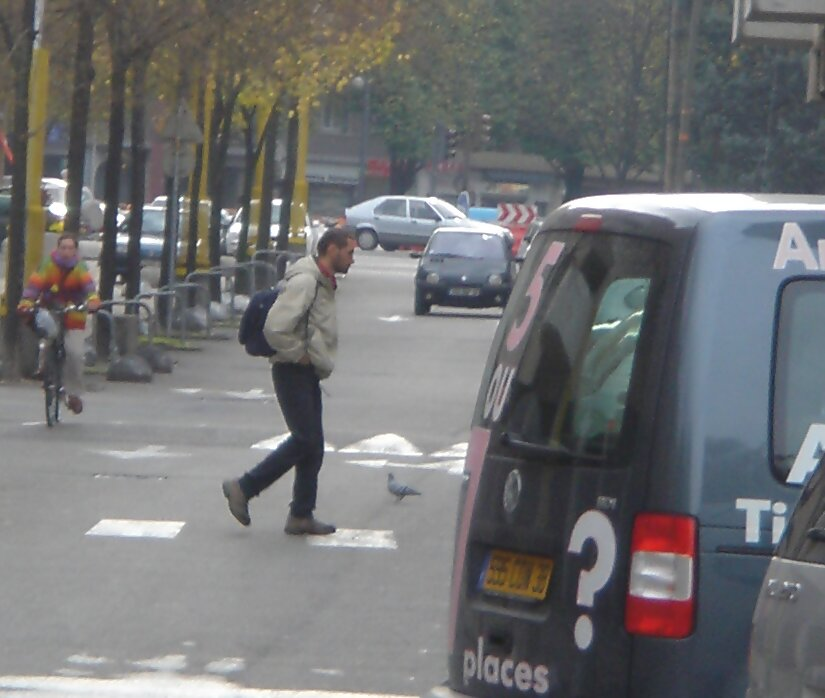person: (220, 212, 360, 539), (19, 224, 107, 417)
